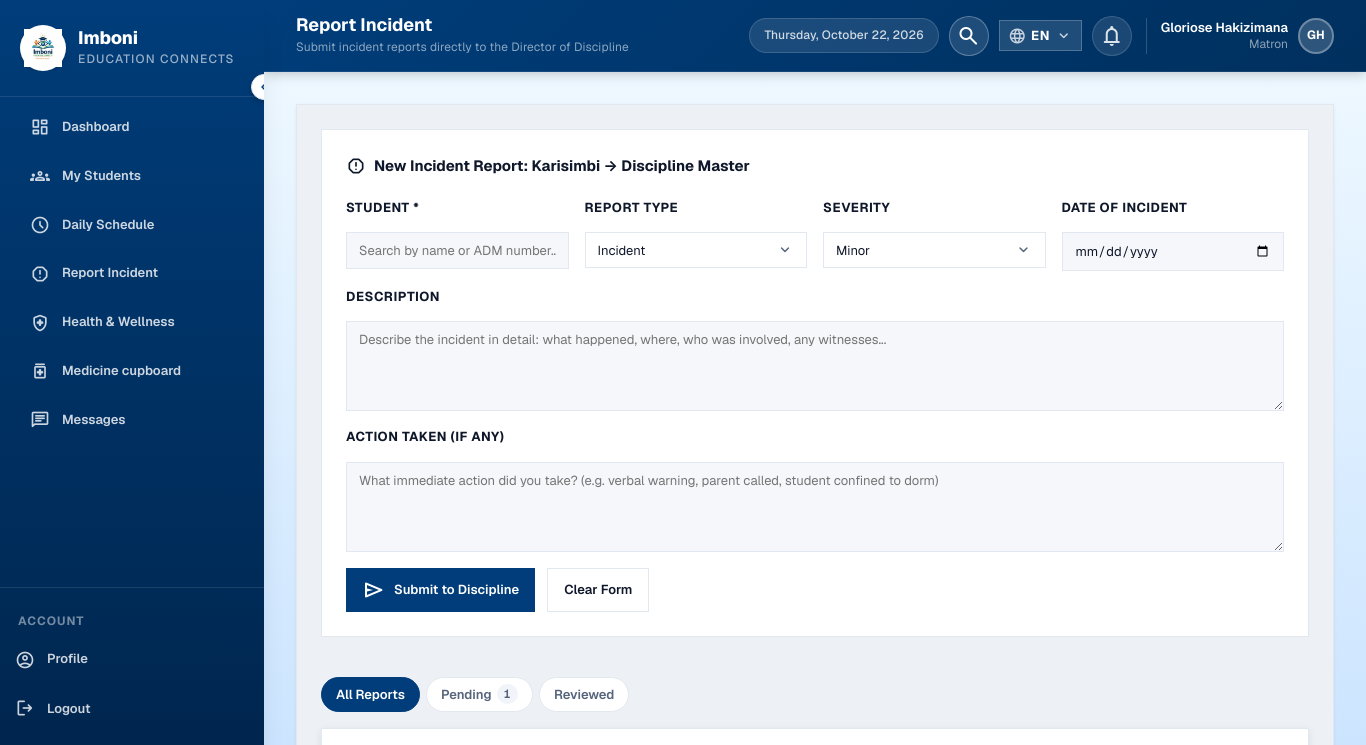
Test case: MatronIncidents › filters past reports using the filter bar
The width and height of the screenshot is (1366, 745).
Click the button "Reviewed": (584, 694) [539,677,629,712]
(page scrolled)
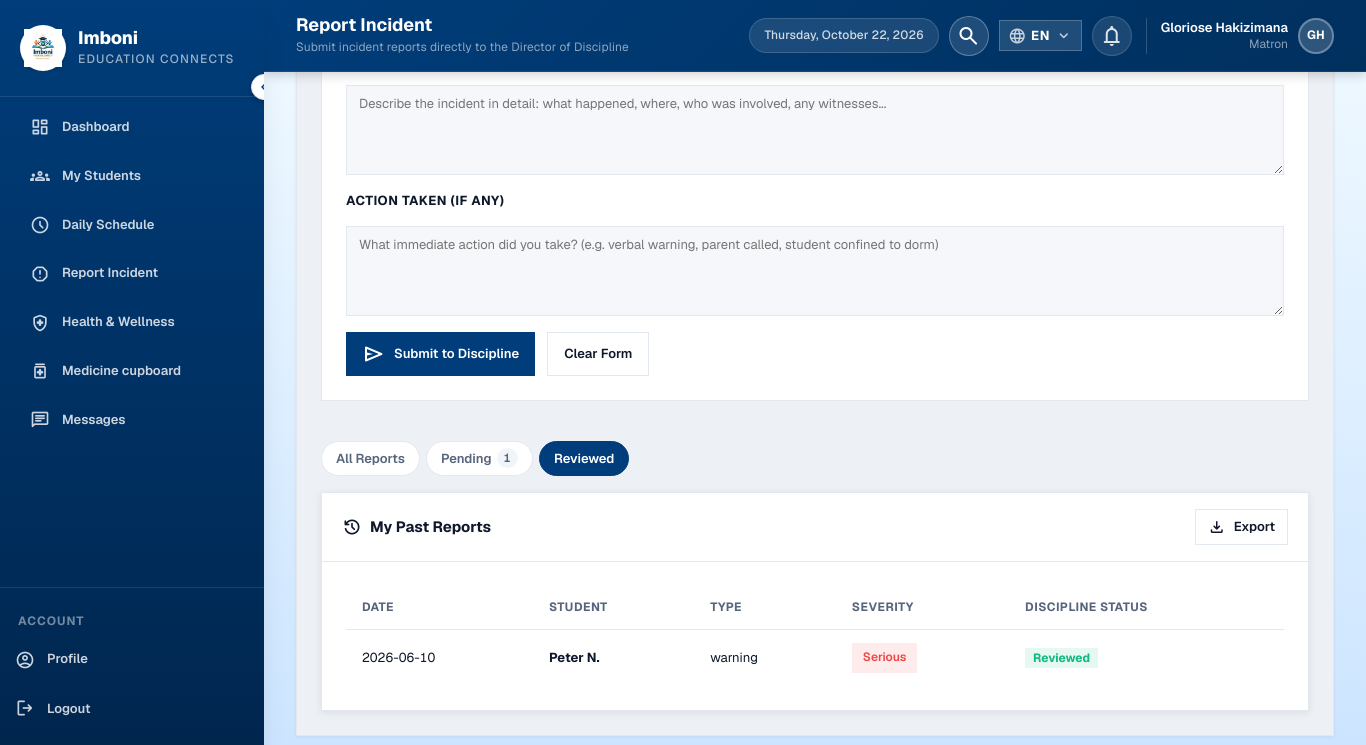
Check: the text "Peter N." is shown, box [549,648,600,666]
